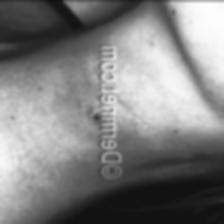Toxin: (90, 109, 106, 126)
